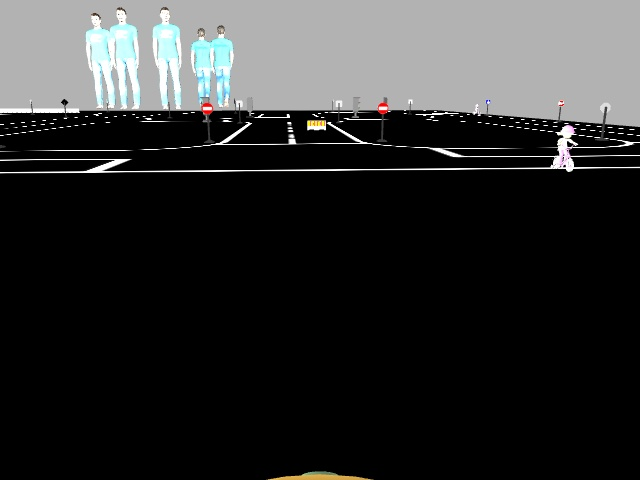ClosedRoadStand: (307, 120, 324, 129)
NoEntry: (200, 101, 213, 112), (377, 103, 387, 114)
Pedestrian: (553, 125, 574, 168)
